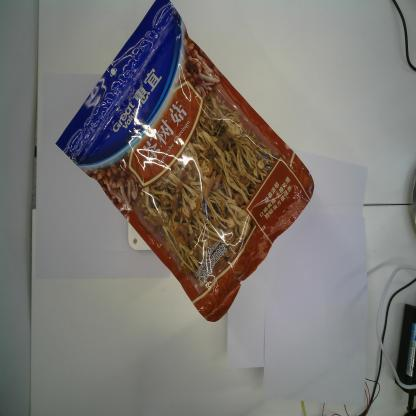Dried Food: (54, 0, 315, 322)
